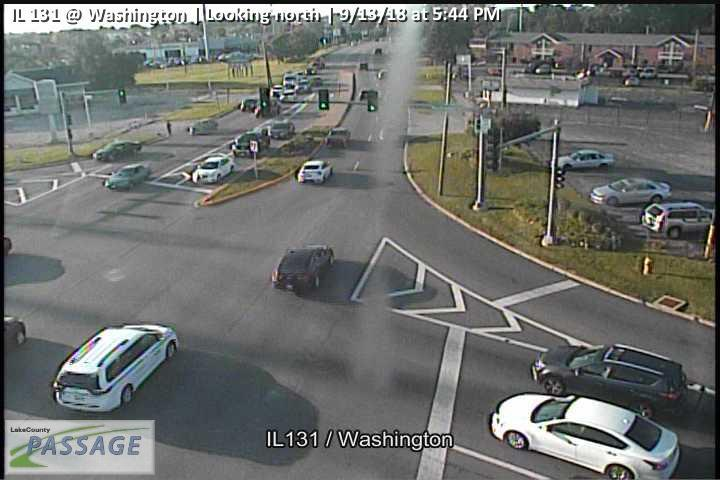SUV: (529, 341, 688, 421), (52, 324, 177, 413), (640, 202, 717, 240)
Sedan: (490, 392, 680, 480), (272, 244, 334, 292), (588, 178, 671, 205), (555, 149, 615, 172), (104, 162, 149, 191), (192, 155, 235, 185), (231, 127, 271, 156), (93, 139, 141, 163), (295, 159, 334, 183), (324, 126, 351, 149), (271, 118, 295, 140)
